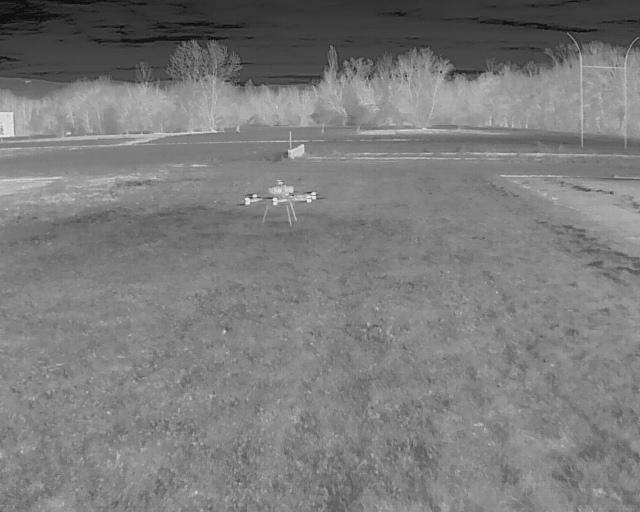drone: (234, 171, 332, 233)
